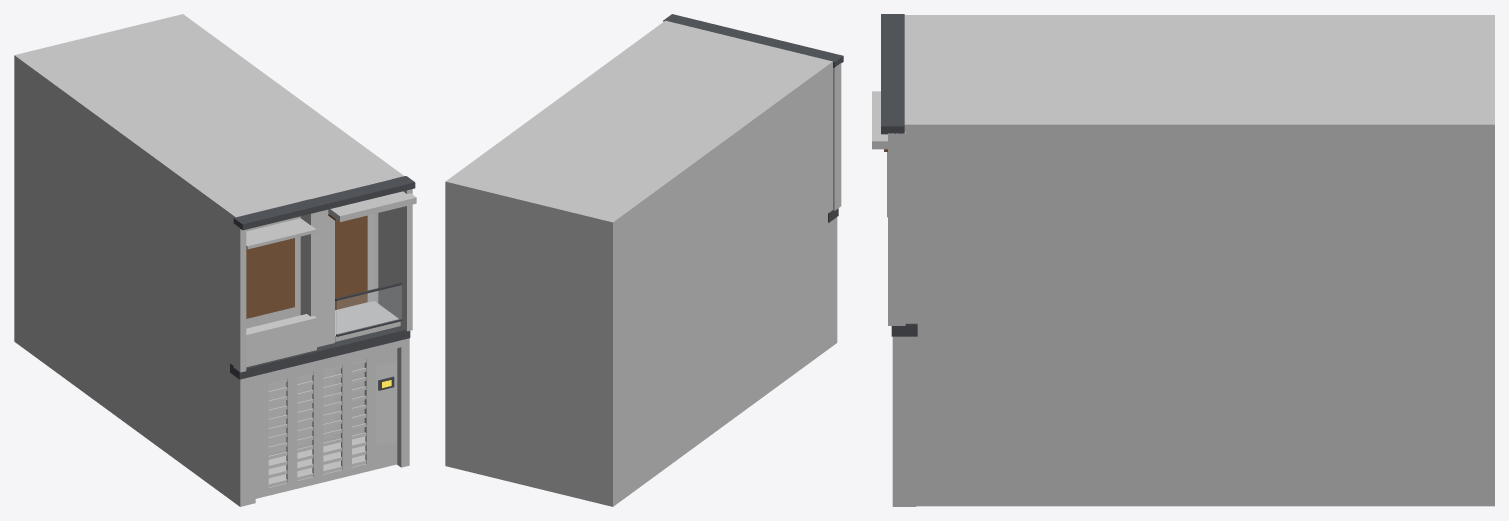
3 views of the same model, side by side, from view 1: azimuth 30°, elevation 25°; view 2: azimuth 150°, elevation 25°; view 3: azimuth 270°, elevation 25° (orthographic). The views are drawn at different scales.
Visible parts, largest first — view 1: Object_4, Object_134; view 2: Object_4; view 3: Object_4.
Boxes of the visible parts, x1,y1,x2,y2 form: Object_4: (14,14,416,506); Object_134: (336,285,401,334); Object_4: (445,14,843,506); Object_4: (872,14,1494,506).
Bounding box in the file's own units: 4.5 × 7.14 × 10.55.
